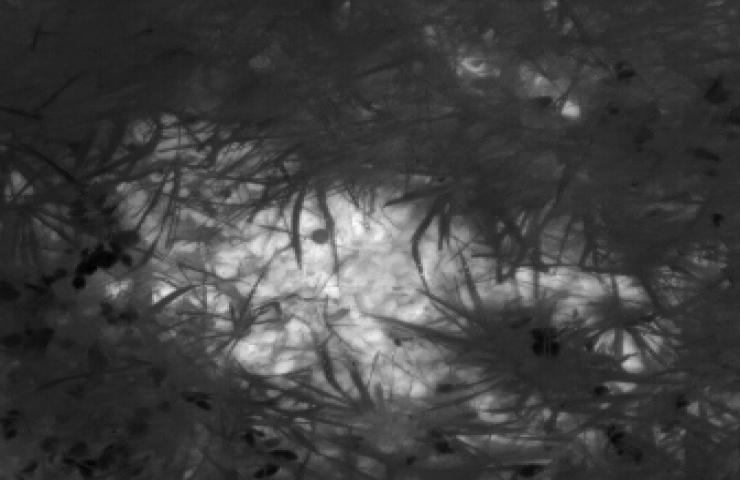landmines: (102, 108, 510, 410)
